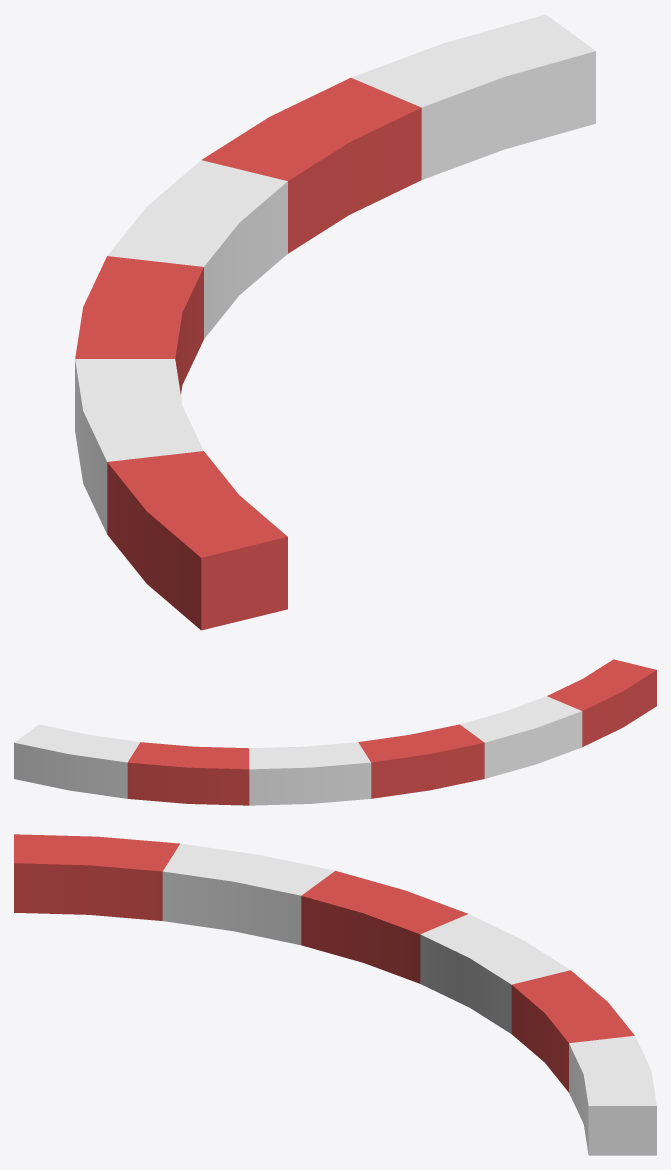
File: roadCornerLargeWallInner.glb
3 views of the same model, one above another, from view 1: azimuth 30°, elevation 25°; view 2: azimuth 150°, elevation 25°; view 3: azimuth 270°, elevation 25° (orthographic). The views are drawn at different scales.
Visible parts, largest first — view 1: roadCornerLargeWallInner(Clone); view 2: roadCornerLargeWallInner(Clone); view 3: roadCornerLargeWallInner(Clone).
Part boxes in pixels (x1,y1,x2,y2): roadCornerLargeWallInner(Clone): [75, 14, 595, 630]; roadCornerLargeWallInner(Clone): [14, 659, 656, 805]; roadCornerLargeWallInner(Clone): [14, 834, 656, 1155].
Bounding box in the file's own units: 0.47 × 0.04 × 0.47.
